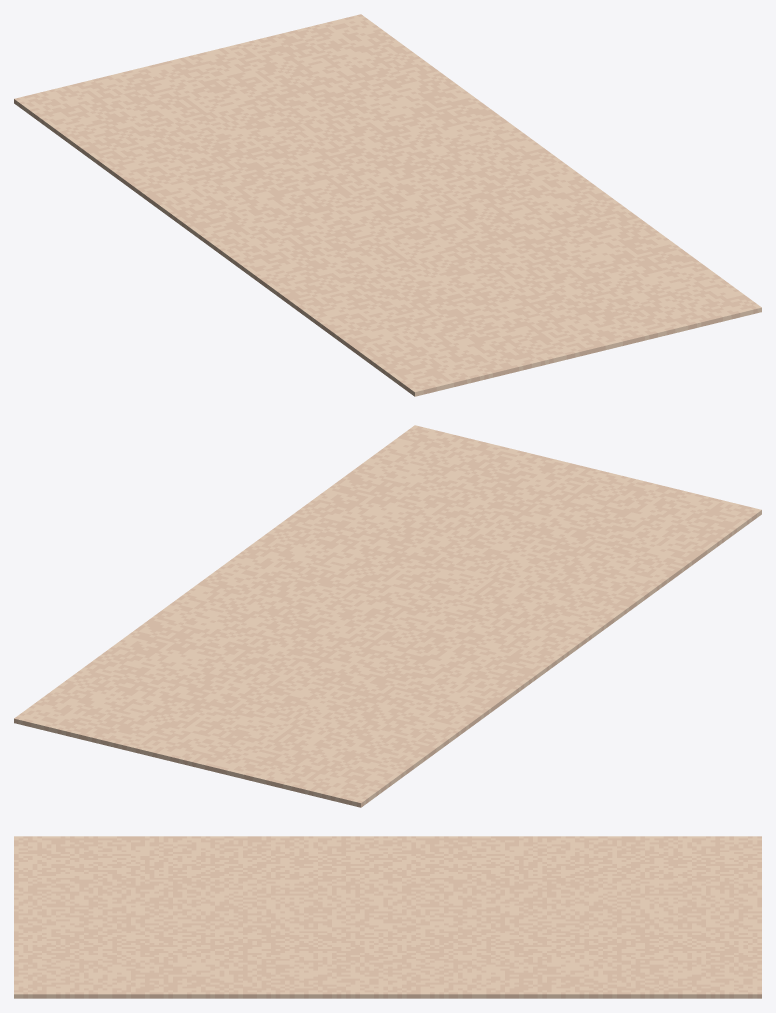
The model's file is floor_02_XL.dae.
3 renders of one model, top to bottom at view 1: azimuth 30°, elevation 25°; view 2: azimuth 150°, elevation 25°; view 3: azimuth 270°, elevation 25°, orthographic. The views are drawn at different scales.
Visible parts, largest first — view 1: Untitled; view 2: Untitled; view 3: Untitled.
Boxes of the visible parts, x1,y1,x2,y2 form: Untitled: (14,14,761,396); Untitled: (14,425,761,807); Untitled: (14,836,761,998).
Bounding box in the file's own units: 2.4 × 4.8 × 0.03.
Materials: 1 (1 with a texture image).
